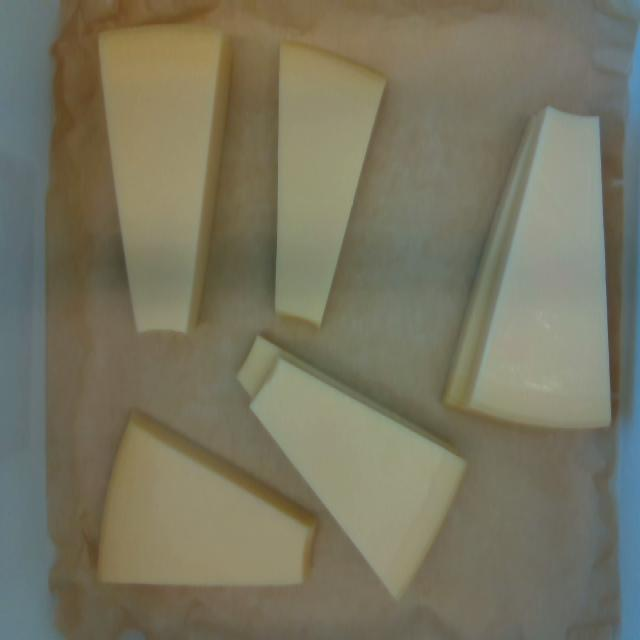Cheese: (250, 357, 464, 595), (473, 111, 609, 424), (100, 29, 222, 330), (101, 423, 309, 584), (276, 45, 384, 323)
